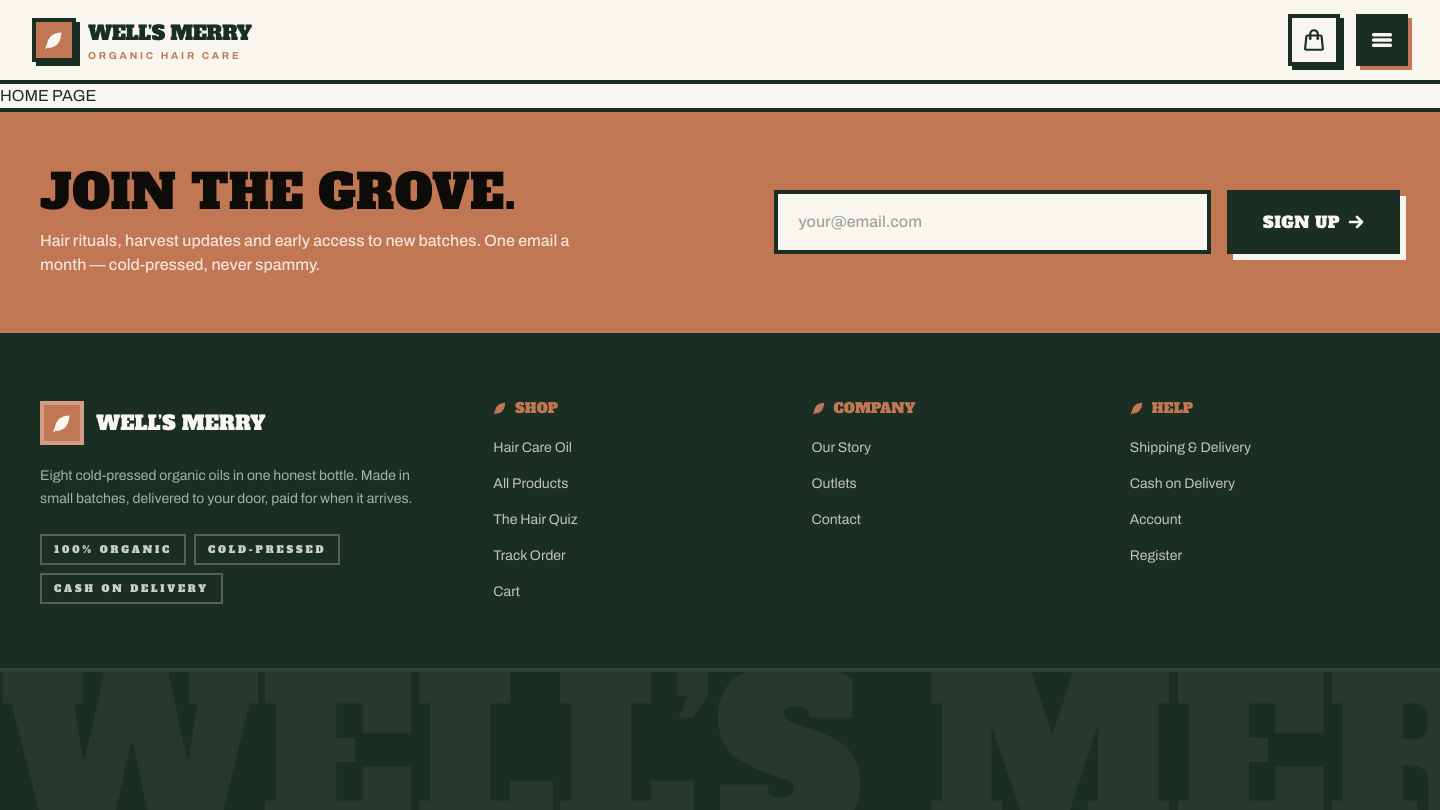
Test: Navbar overlay › closes before navigating when 'Track Order' is clicked
The image size is (1440, 810).
Click the button named "open menu" at (1382, 40), box 1356,14 -> 1408,66
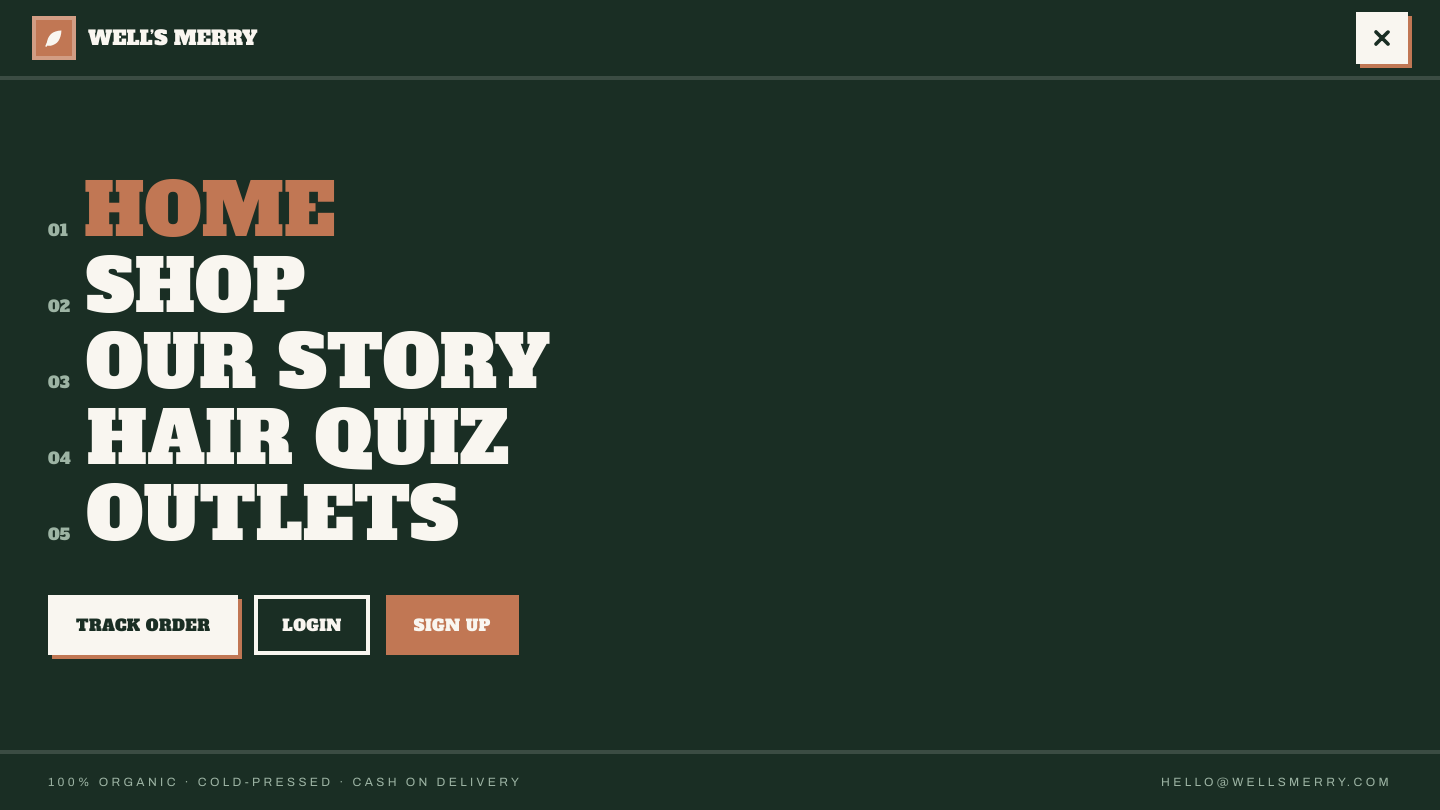
Click the link "Track Order" at (143, 625), box 48,595 -> 238,655
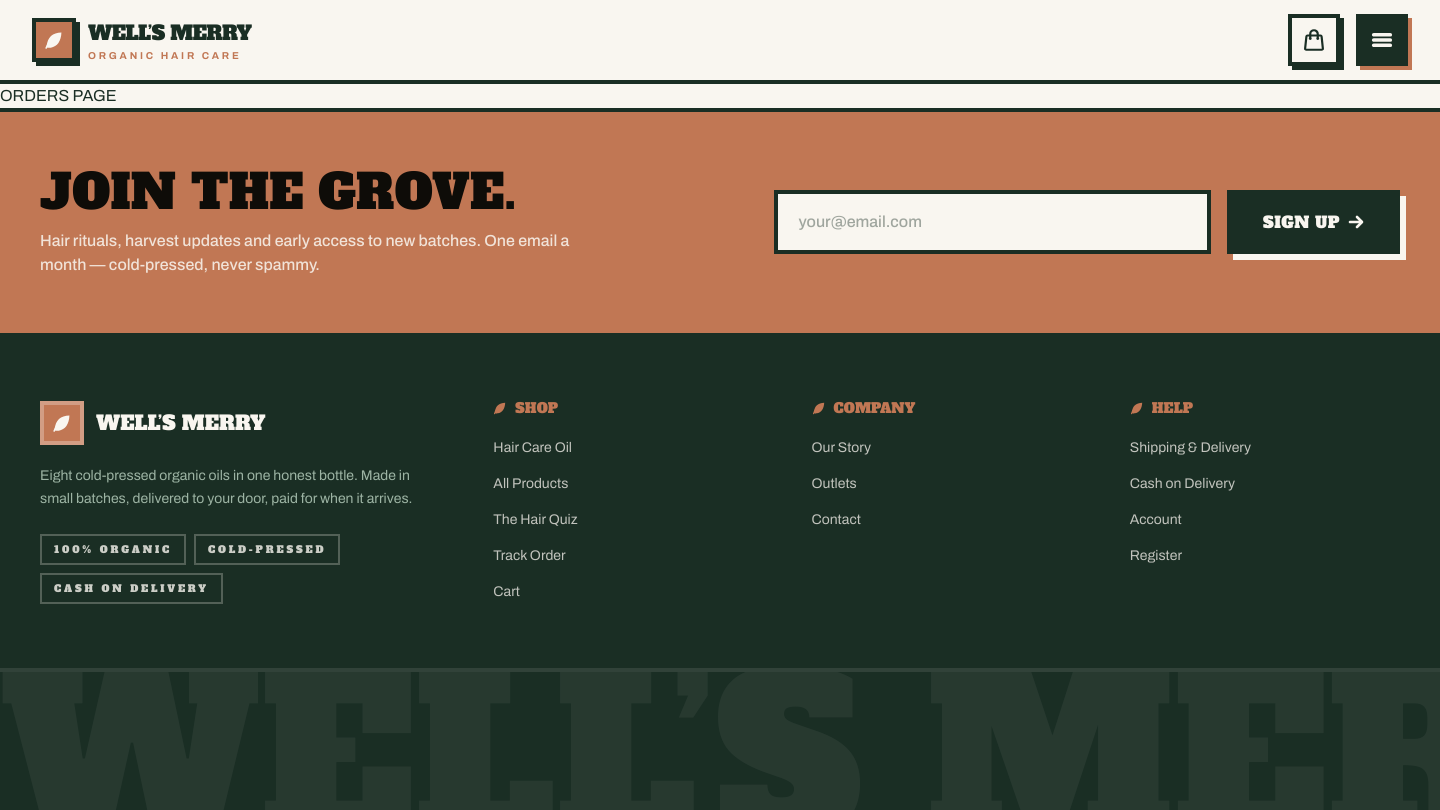
Result: the text "ORDERS PAGE" is shown at 0,87 -> 117,104
